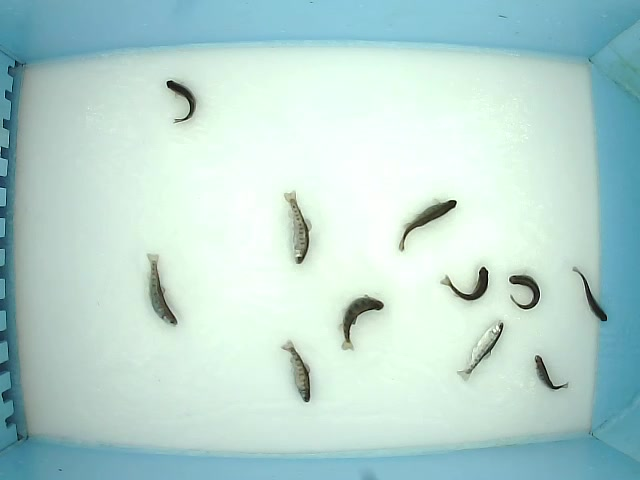fish: (397, 197, 458, 252), (456, 318, 505, 382), (337, 293, 385, 351), (144, 253, 179, 328), (282, 189, 312, 265), (280, 339, 313, 404), (571, 265, 608, 322), (439, 265, 490, 302), (165, 79, 197, 125), (533, 354, 569, 391), (508, 274, 540, 311)
